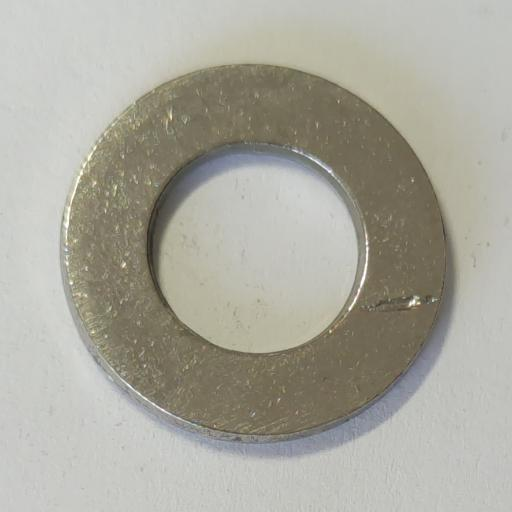scratch: (361, 295, 438, 312)
